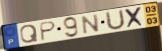9: (63, 16, 80, 39)
N: (81, 13, 101, 35)
P: (40, 20, 58, 42)
Q: (19, 24, 40, 44)
U: (105, 8, 127, 32)
X: (124, 5, 147, 29)
